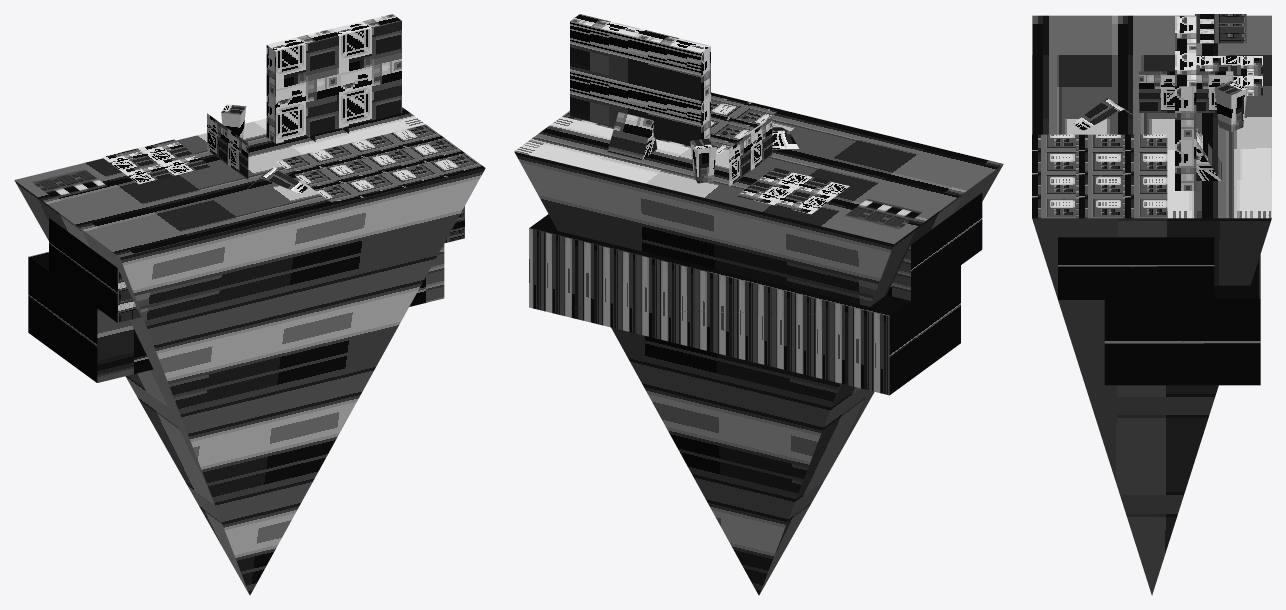
The model's file is 3893kg3_shp15.gltf.
3 renders of one model, left to right at view 1: azimuth 30°, elevation 25°; view 2: azimuth 150°, elevation 25°; view 3: azimuth 270°, elevation 25°, orthographic. The views are drawn at different scales.
Visible parts, largest first — view 1: 3893kg3_shp15; view 2: 3893kg3_shp15; view 3: 3893kg3_shp15.
Part boxes in pixels (x1,y1,x2,y2): 3893kg3_shp15: [14, 14, 485, 595]; 3893kg3_shp15: [514, 14, 1003, 595]; 3893kg3_shp15: [1032, 14, 1271, 595].
Size of the model in its own units: 1.8 by 2.48 by 0.9006.
Materials: 3 (3 with a texture image).
